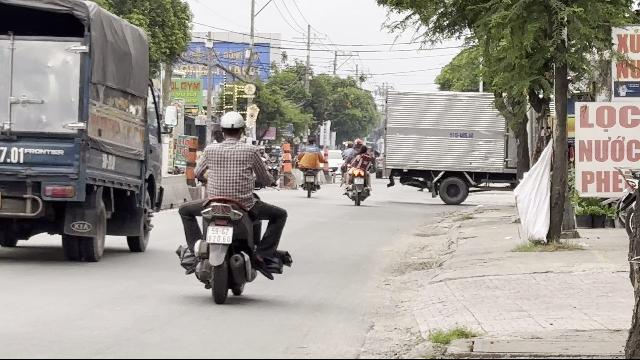helmet: (218, 110, 246, 140)
licenseplate: (206, 226, 234, 244)
motorcyclist: (175, 109, 289, 303)
